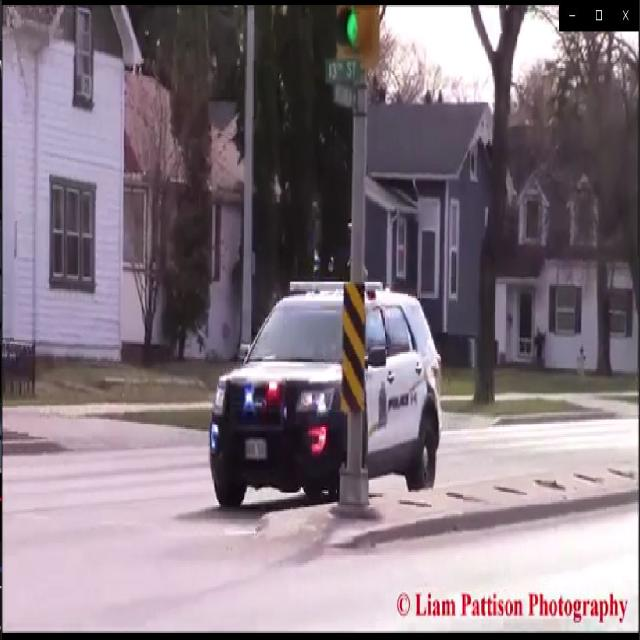emergency: (199, 261, 444, 511)
